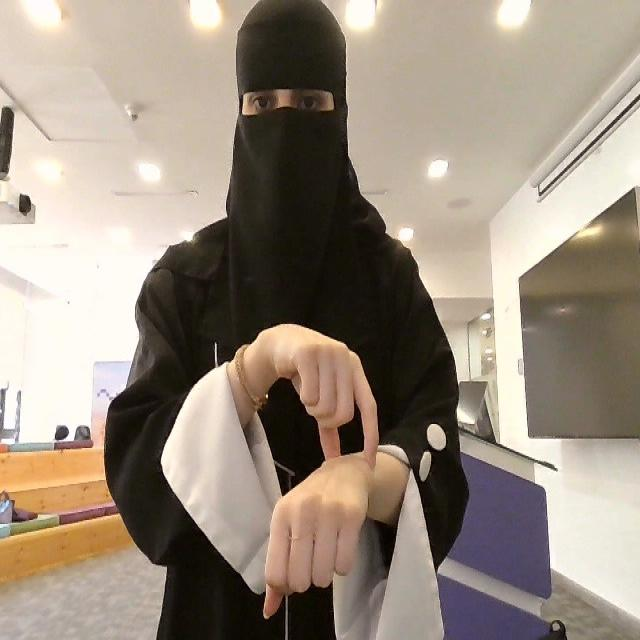appointment: (256, 311, 414, 622)
